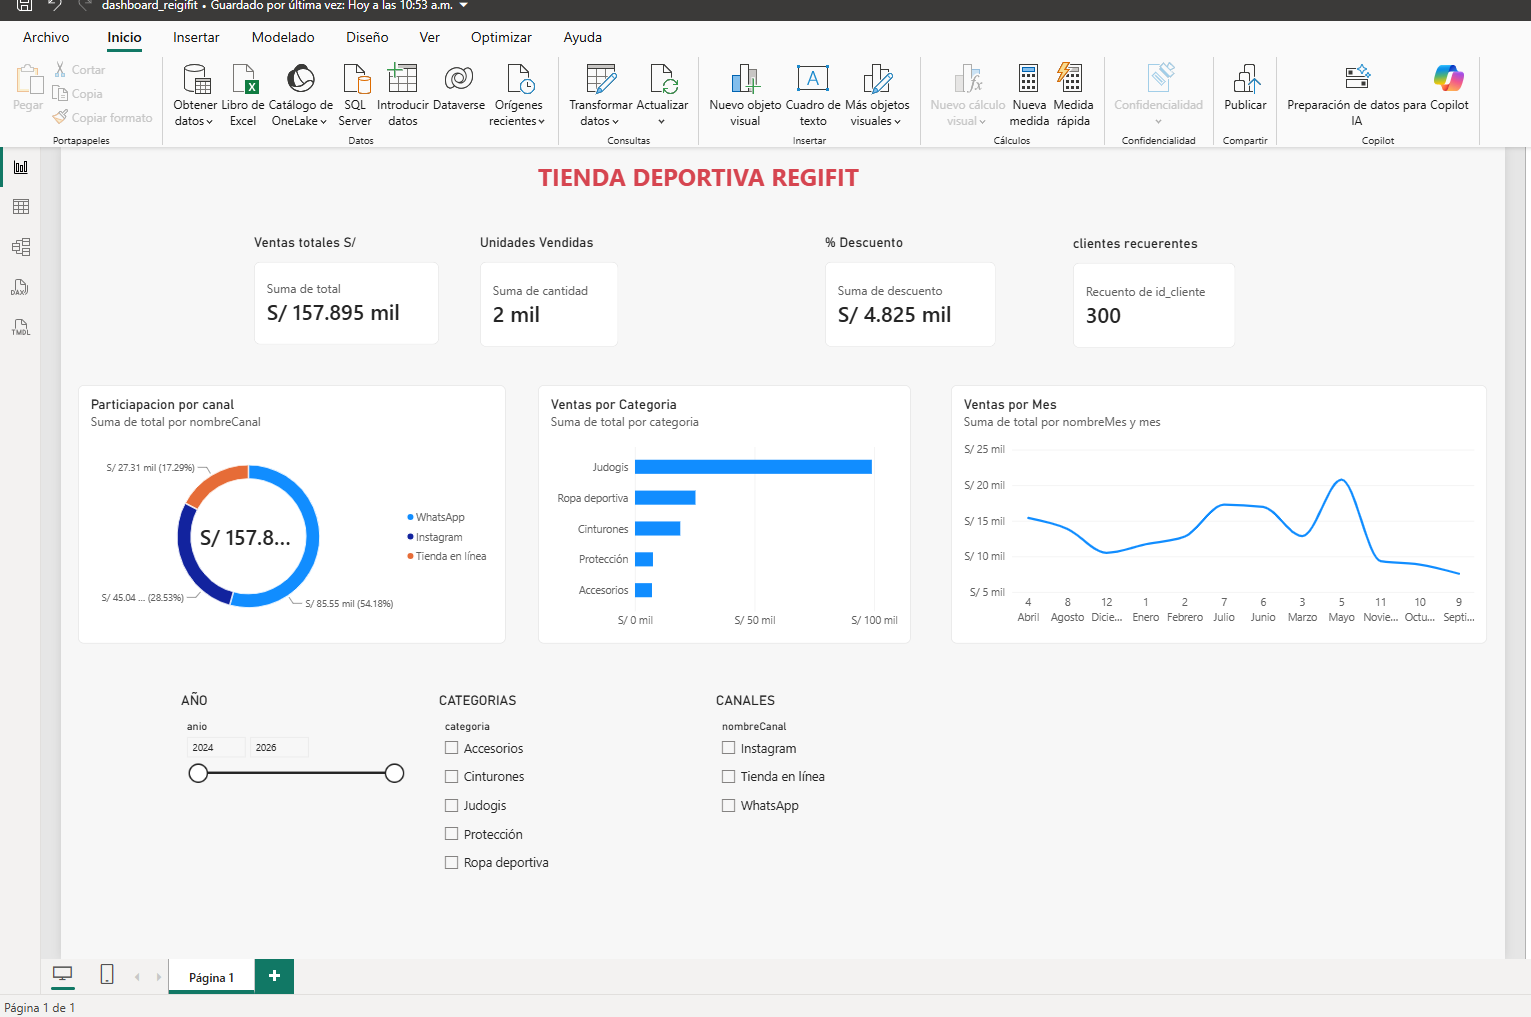

Layout of this report page (visuals, bound fields, positions):
{"tool":"powerbi","page":{"name":"Página 1","canvas":[1920,1080],"ordinal":0},"visuals":[{"type":"cardVisual","title":"Ventas totales S/","fields":{"Data":["Sum(fac_ventas (2).total)"]},"box":[256.7,115.7,246.1,147.6],"z":0},{"type":"cardVisual","title":"Unidades Vendidas","fields":{"Data":["Sum(fac_ventas (2).cantidad)"]},"box":[557.3,115.7,184.9,150.3],"z":1000},{"type":"cardVisual","title":"% Descuento","fields":{"Data":["Sum(fac_ventas (2).descuento)"]},"box":[1016.2,115.7,227.4,150.3],"z":2000},{"type":"cardVisual","title":"clientes recuerentes ","fields":{"Data":["CountNonNull(dim_cliente (2).id_cliente)"]},"box":[1346,117,216.8,150.3],"z":2001},{"type":"donutChart","title":"Particiapacion por canal ","fields":{"Category":["dim_canal (2).nombreCanal"],"Y":["Sum(fac_ventas (2).total)"]},"box":[22.6,316.6,569.3,344.5],"z":2002},{"type":"clusteredBarChart","title":"Ventas por Categoria","fields":{"Category":["dim_producto (2).categoria"],"Y":["Sum(fac_ventas (2).total)"]},"box":[634.4,316.6,496.1,344.5],"z":2003},{"type":"lineChart","title":"Ventas por Mes","fields":{"Category":["dim_tiempo (2).nombreMes","dim_tiempo (2).mes"],"Y":["Sum(fac_ventas (2).total)"]},"box":[1183.2,316.6,713.4,344.3],"z":2004},{"type":"slicer","title":"AÑO","fields":{"Values":["dim_tiempo (2).anio"]},"box":[159,725.1,300.5,344.3],"z":2005},{"type":"slicer","title":"CATEGORIAS","fields":{"Values":["dim_producto (2).categoria"]},"box":[503.3,725.1,301,344],"z":2006},{"type":"slicer","title":"CANALES","fields":{"Values":["dim_canal (2).nombreCanal"]},"box":[871,725.1,211,344],"z":2007},{"type":"textbox","box":[634.4,17.3,496,56.9],"z":2008}]}

Visuals, with their boxes on the page's 1920x1080 design canvas (x1, y1, x2, y2). These are canvas units, not pixel positions in the 1531x1017 screenshot, which may show the page scaled, cropped or inside an application window:
"Ventas totales S/" cardVisual: <bbox>257, 116, 503, 263</bbox>
"Unidades Vendidas" cardVisual: <bbox>557, 116, 742, 266</bbox>
"% Descuento" cardVisual: <bbox>1016, 116, 1244, 266</bbox>
"clientes recuerentes " cardVisual: <bbox>1346, 117, 1563, 267</bbox>
"Particiapacion por canal " donutChart: <bbox>23, 317, 592, 661</bbox>
"Ventas por Categoria" clusteredBarChart: <bbox>634, 317, 1130, 661</bbox>
"Ventas por Mes" lineChart: <bbox>1183, 317, 1897, 661</bbox>
"AÑO" slicer: <bbox>159, 725, 460, 1069</bbox>
"CATEGORIAS" slicer: <bbox>503, 725, 804, 1069</bbox>
"CANALES" slicer: <bbox>871, 725, 1082, 1069</bbox>
textbox: <bbox>634, 17, 1130, 74</bbox>
